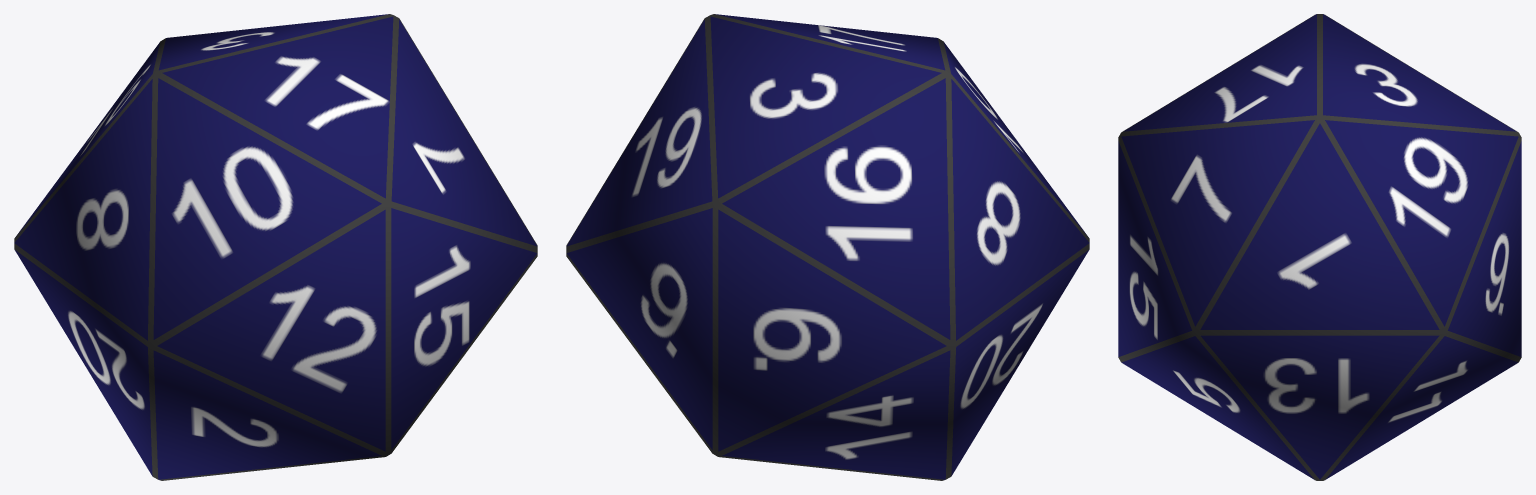
3 views of the same model, side by side, from view 1: azimuth 30°, elevation 25°; view 2: azimuth 150°, elevation 25°; view 3: azimuth 270°, elevation 25° (orthographic). The views are drawn at different scales.
Size of the model in its own units: 134 by 134 by 134.
Materials: 1 (1 with a texture image).
